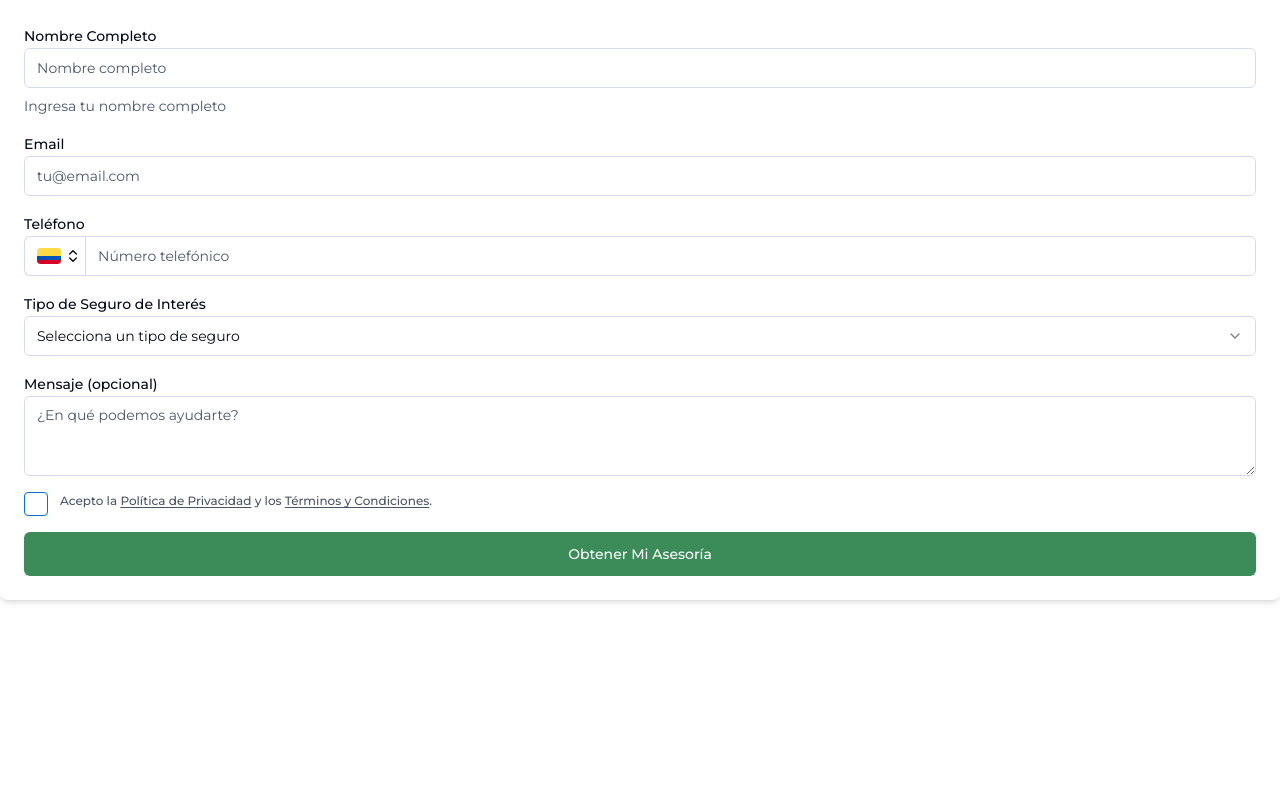
Test: LeadForm › Form Validation › shows the terms message on submit when the box is not ticked
Type "Test User" into the field labelled "Nombre Completo" at (640, 68), box x1=24 y1=48 x2=1256 y2=88
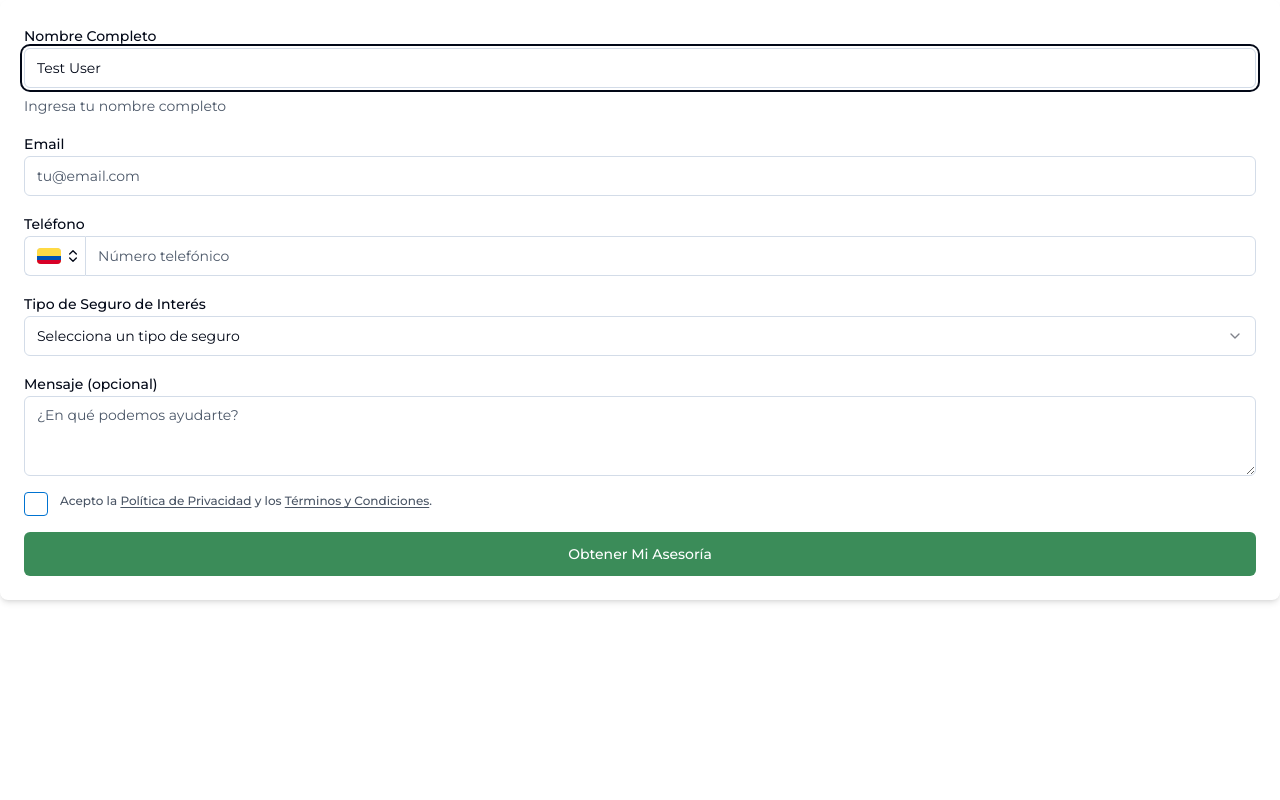
Type "test@example.com" into the field labelled "Email" at (640, 176), box x1=24 y1=156 x2=1256 y2=196
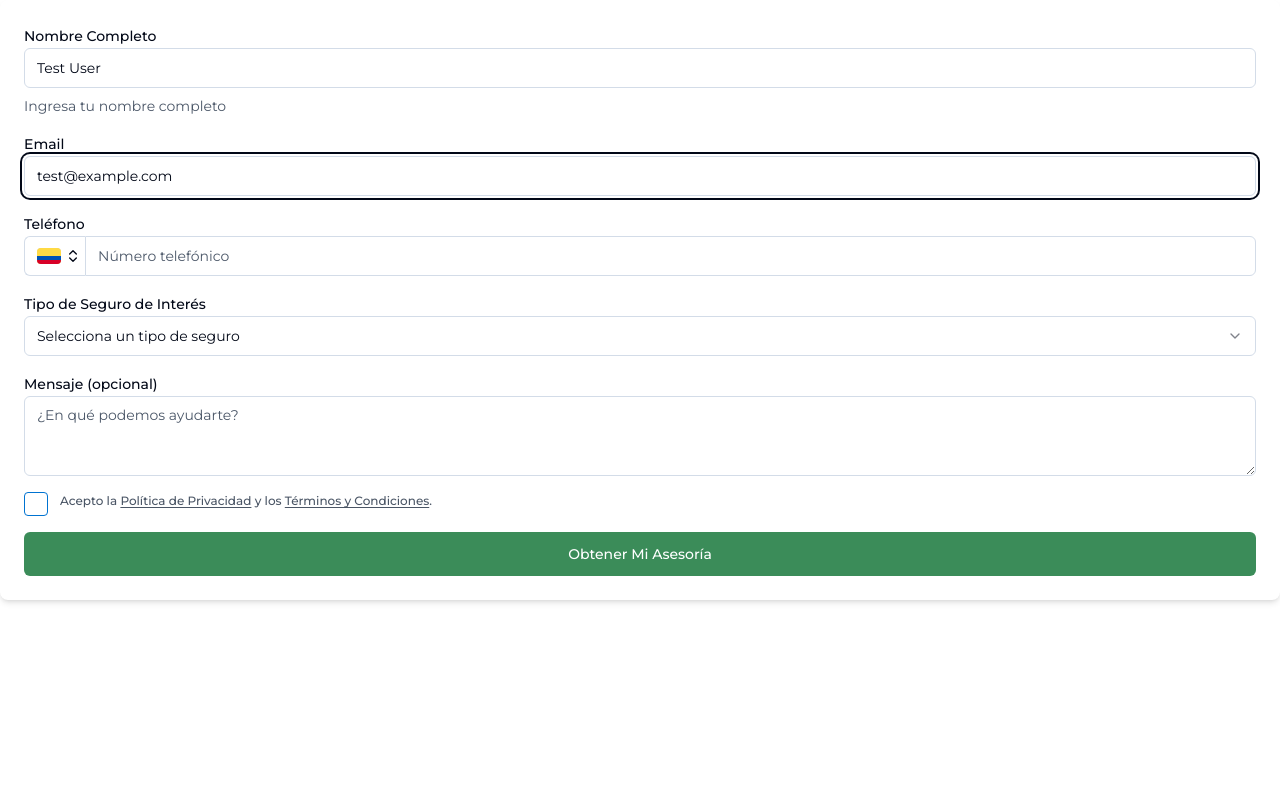
Type "+573001234567" into the field labelled "Teléfono" at (670, 256), box x1=85 y1=236 x2=1256 y2=276
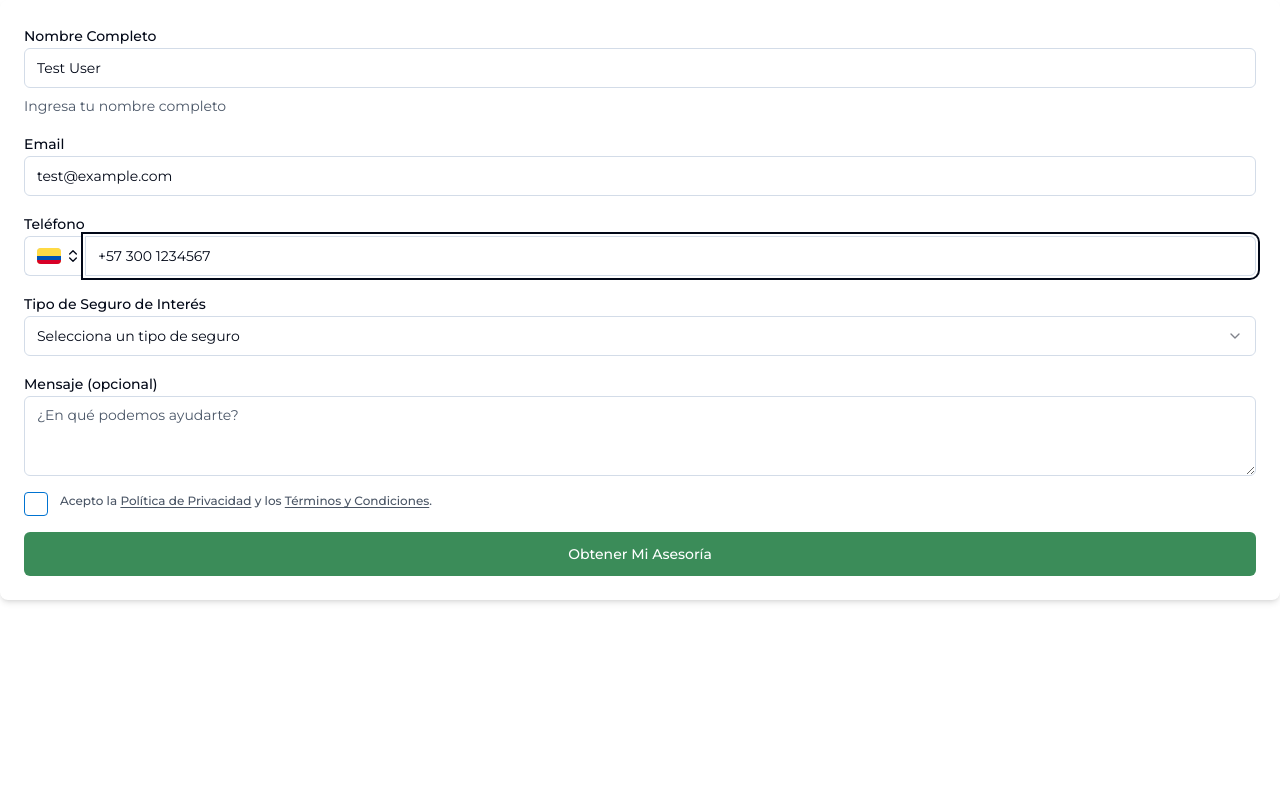
Click the button "Obtener Mi Asesoría" at (640, 554), box x1=24 y1=532 x2=1256 y2=576
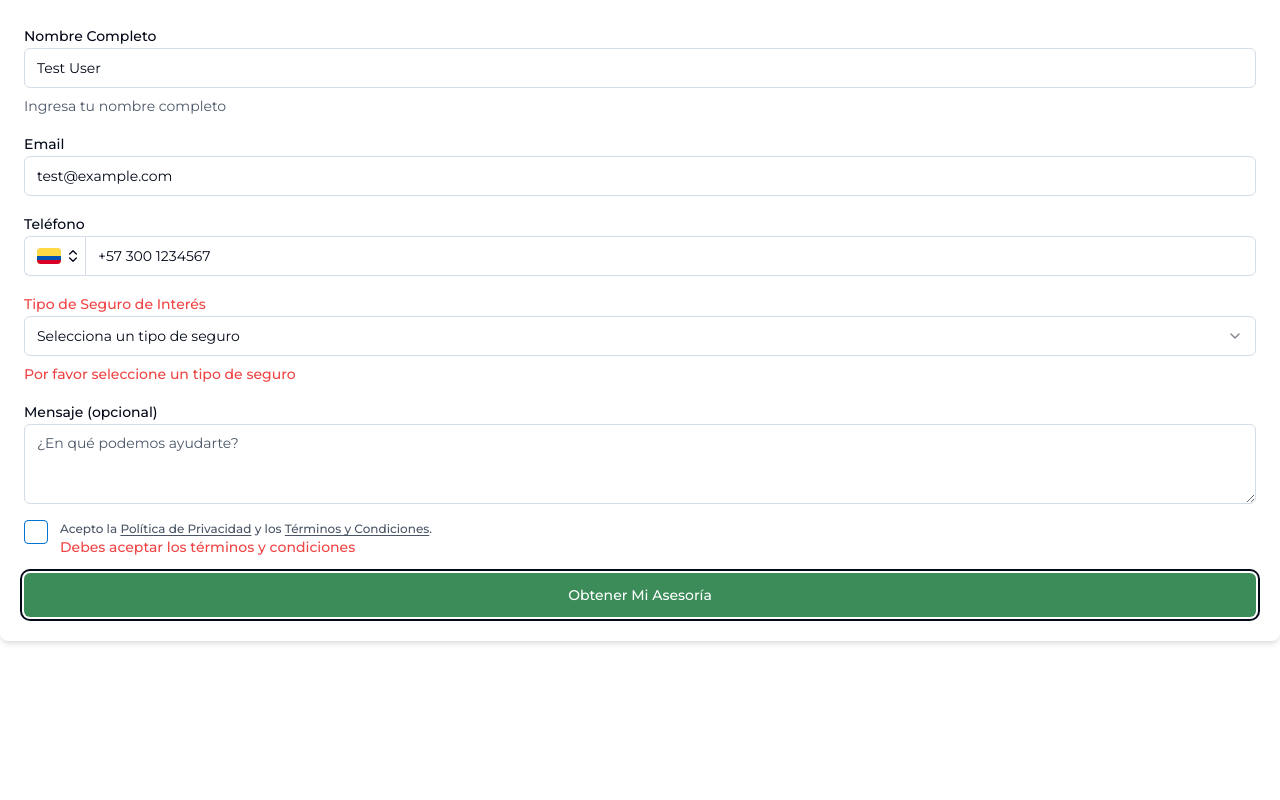
Now the text "Debes aceptar los términos y condiciones" is shown, box x1=60 y1=538 x2=355 y2=556
